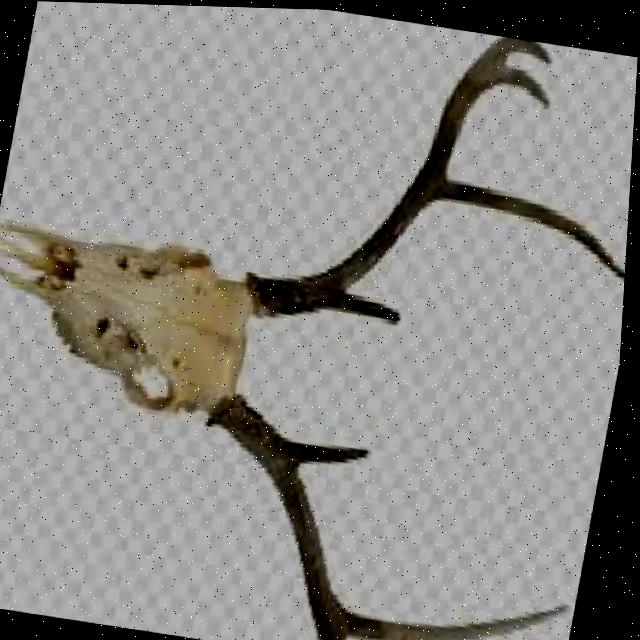L-F: (209, 389, 352, 640)
L-G1: (291, 435, 378, 463)
L-G2: (349, 597, 581, 640)
R-F: (247, 32, 554, 317)
R-G1: (330, 288, 408, 323)
R-G2: (435, 171, 628, 277)
R-G3: (497, 60, 552, 106)
